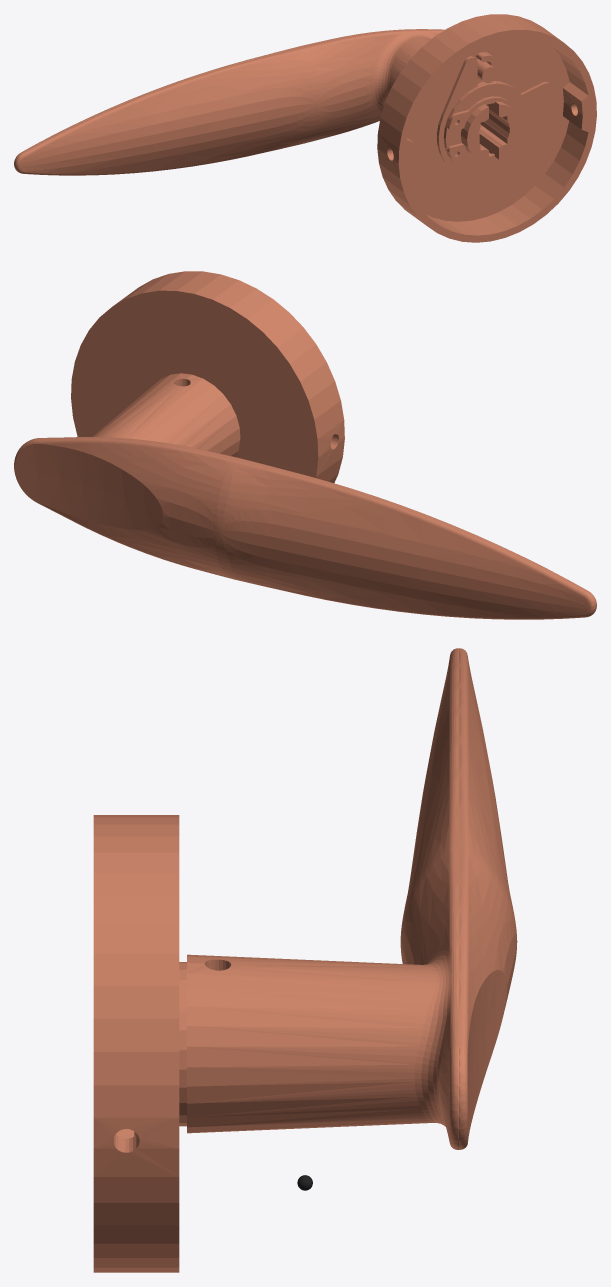
File: moon pvd r gold.glb
3 renders of one model, top to bottom at view 1: azimuth 30°, elevation 25°; view 2: azimuth 150°, elevation 25°; view 3: azimuth 270°, elevation 25°, orthographic. The views are drawn at different scales.
Parts seen in each view (by area): view 1: MOON_aadf6e, MOON_01320a; view 2: MOON_01320a, MOON_aadf6e; view 3: MOON_01320a, MOON_aadf6e.
Boxes of the visible parts, x1=… form: MOON_aadf6e: x1=377, y1=14, x2=596, y2=242; MOON_01320a: x1=14, y1=29, x2=520, y2=175; MOON_01320a: x1=14, y1=373, x2=596, y2=619; MOON_aadf6e: x1=71, y1=271, x2=344, y2=482; MOON_01320a: x1=187, y1=648, x2=517, y2=1149; MOON_aadf6e: x1=93, y1=815, x2=186, y2=1272.
Size of the model in its own units: 0.9376 by 0.3784 by 0.35.
